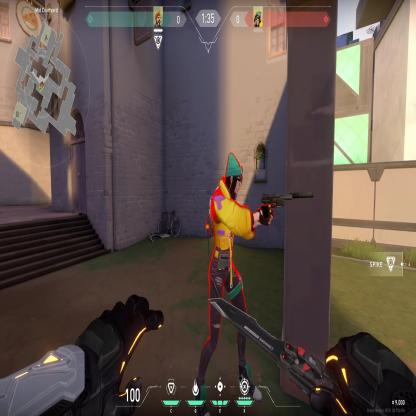enemy: (202, 148, 264, 363)
